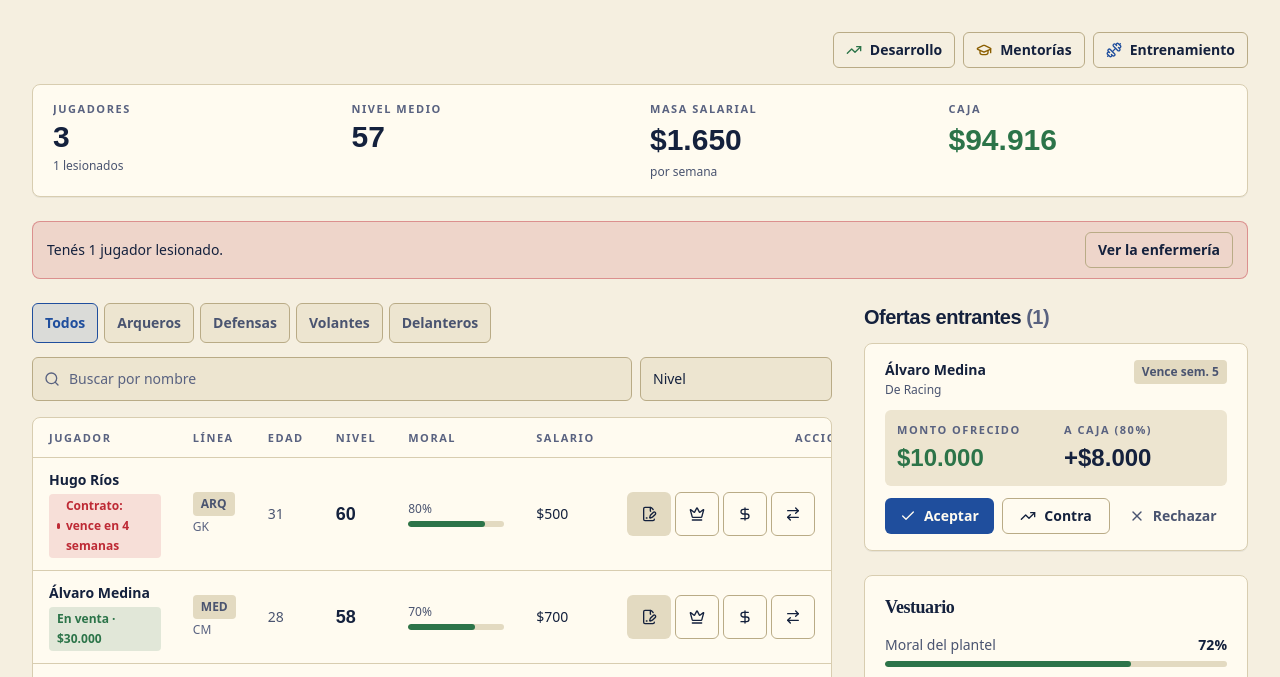
Test case: pantalla Plantel › la contraoferta exige un monto mayor al ofrecido y lo muestra junto al campo
Click the button "Contra" at (1056, 516), box x1=1002 y1=498 x2=1110 y2=534
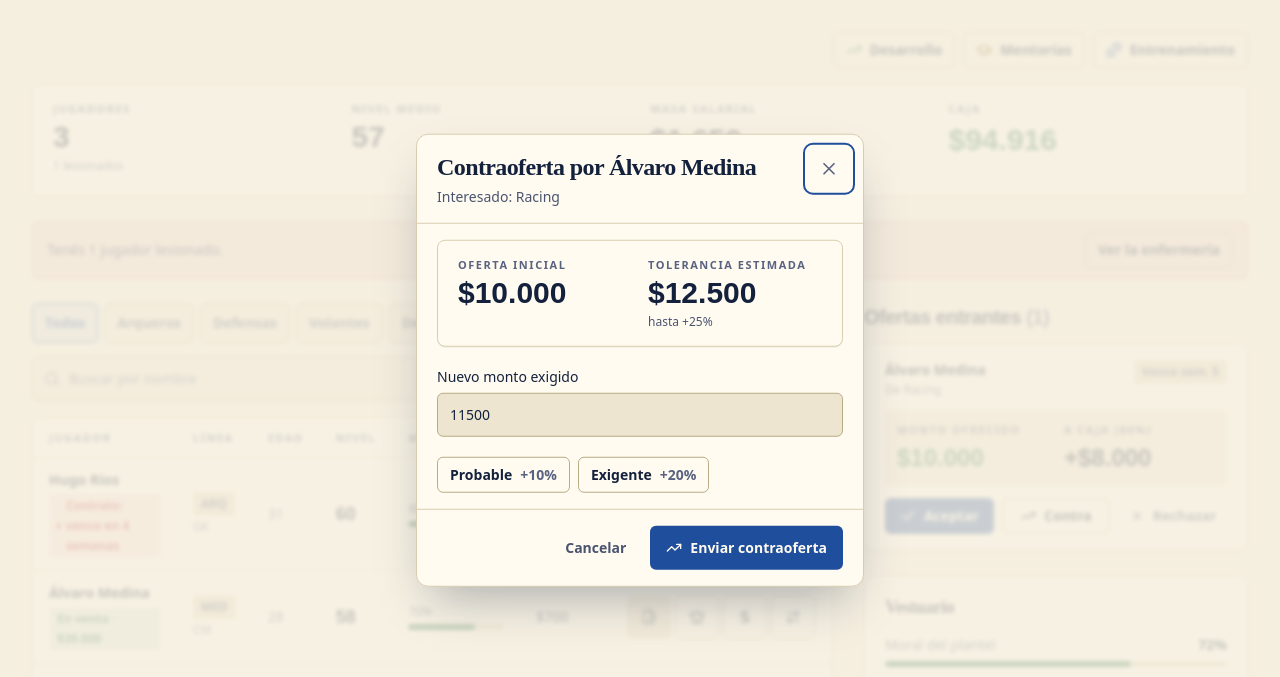
Replace the text in the number field labelled "Nuevo monto exigido" with "9000" at (640, 414), box x1=437 y1=392 x2=843 y2=436
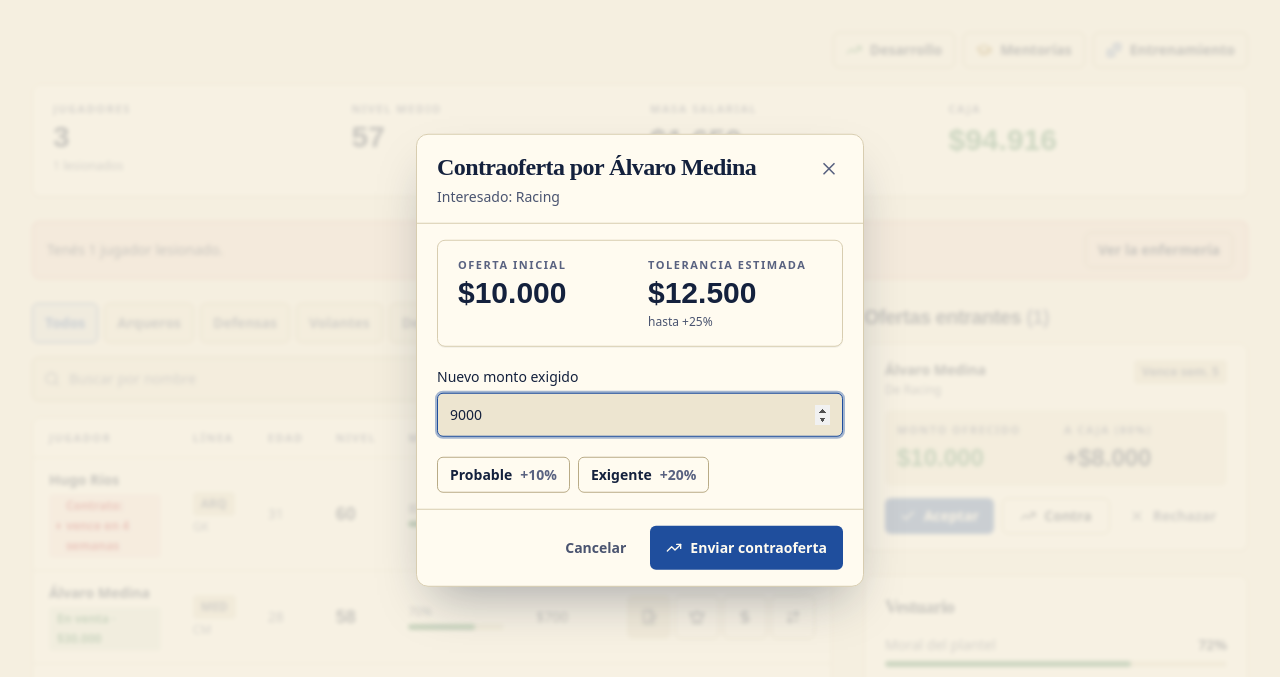
Click the button "Enviar contraoferta" at (747, 547), box x1=650 y1=525 x2=843 y2=569
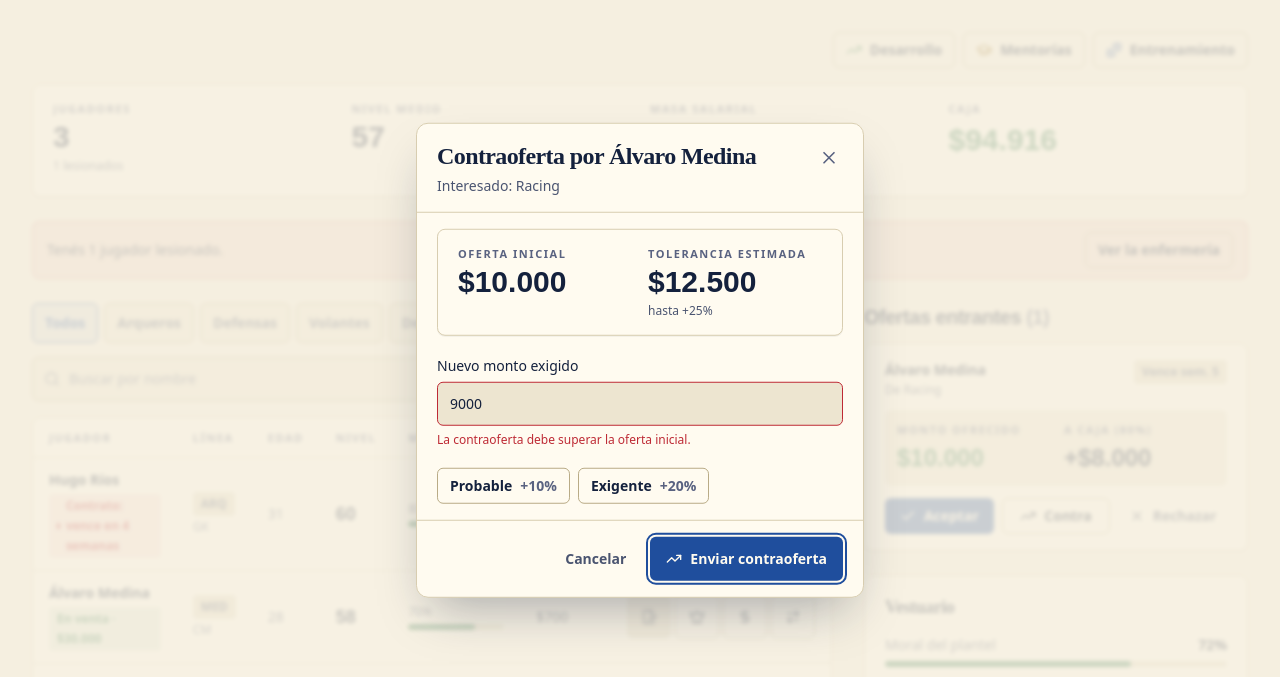
Now the message reads "La contraoferta debe superar la oferta inicial.", box x1=437 y1=430 x2=691 y2=447
